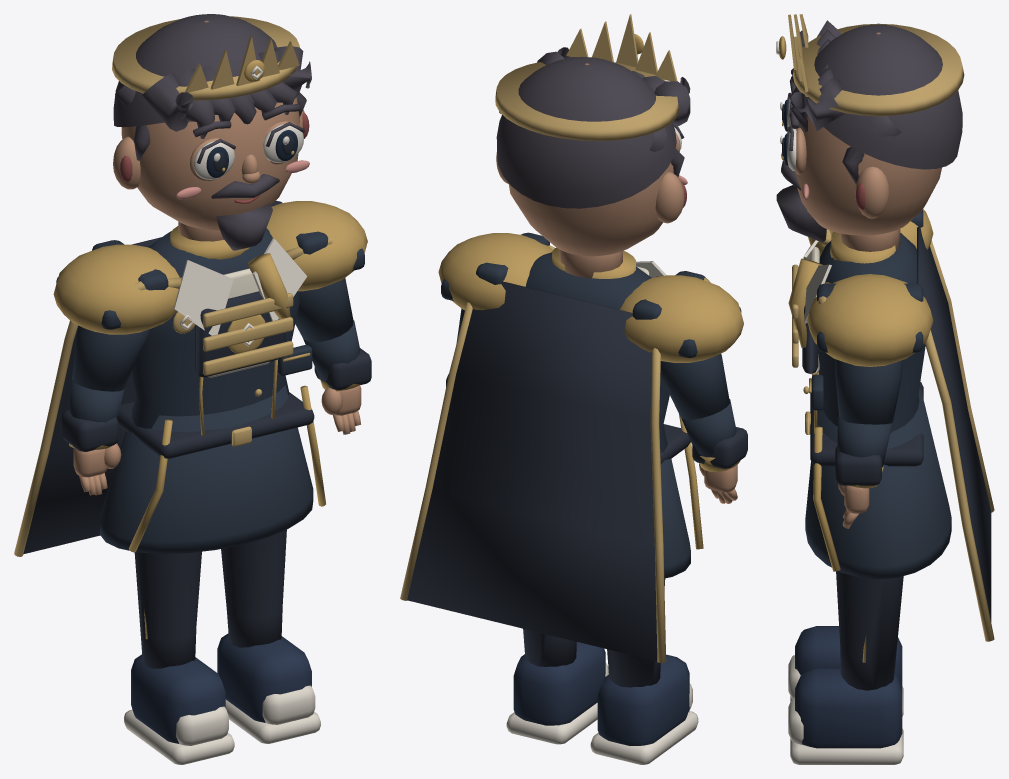
File: elite_iron_master.glb
The picture shows the model from 3 angles, left to right: view 1: azimuth 30°, elevation 25°; view 2: azimuth 150°, elevation 25°; view 3: azimuth 270°, elevation 25°; orthographic projection. The views are drawn at different scales.
Parts seen in each view (by area): view 1: figure.025; view 2: figure.025; view 3: figure.025.
Part boxes in pixels (left/top/right/bottom): figure.025: left=14, top=14, right=371, bottom=764; figure.025: left=400, top=14, right=747, bottom=764; figure.025: left=776, top=14, right=994, bottom=764.
Size of the model in its own units: 1.29 by 2.96 by 0.8154.
